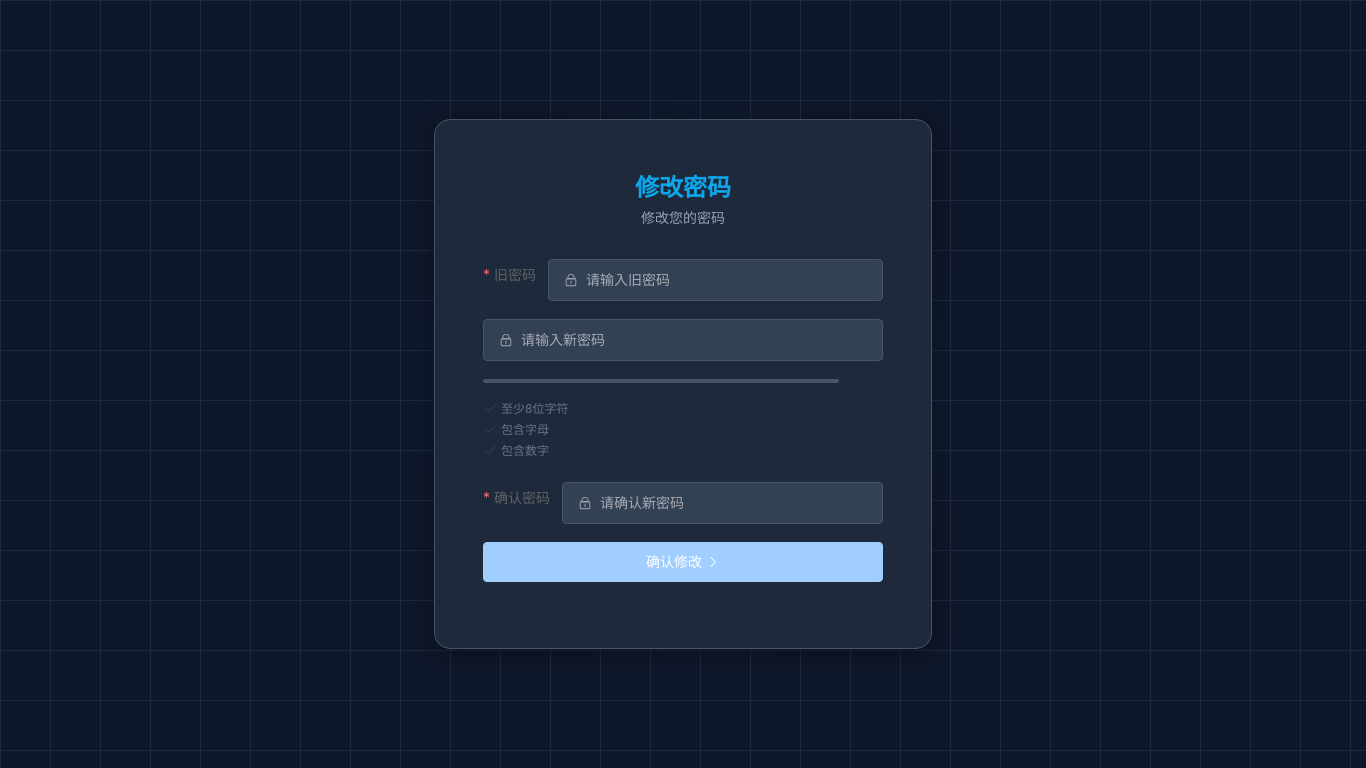
Test: ChangePassword.vue › 密码强度指示器 › 输入强密码时应显示"强"
Type "Abcdefg1" into the password field with placeholder "请输入新密码".
click(694, 340); type("Abcdefg1")  # box [521,321,867,359]
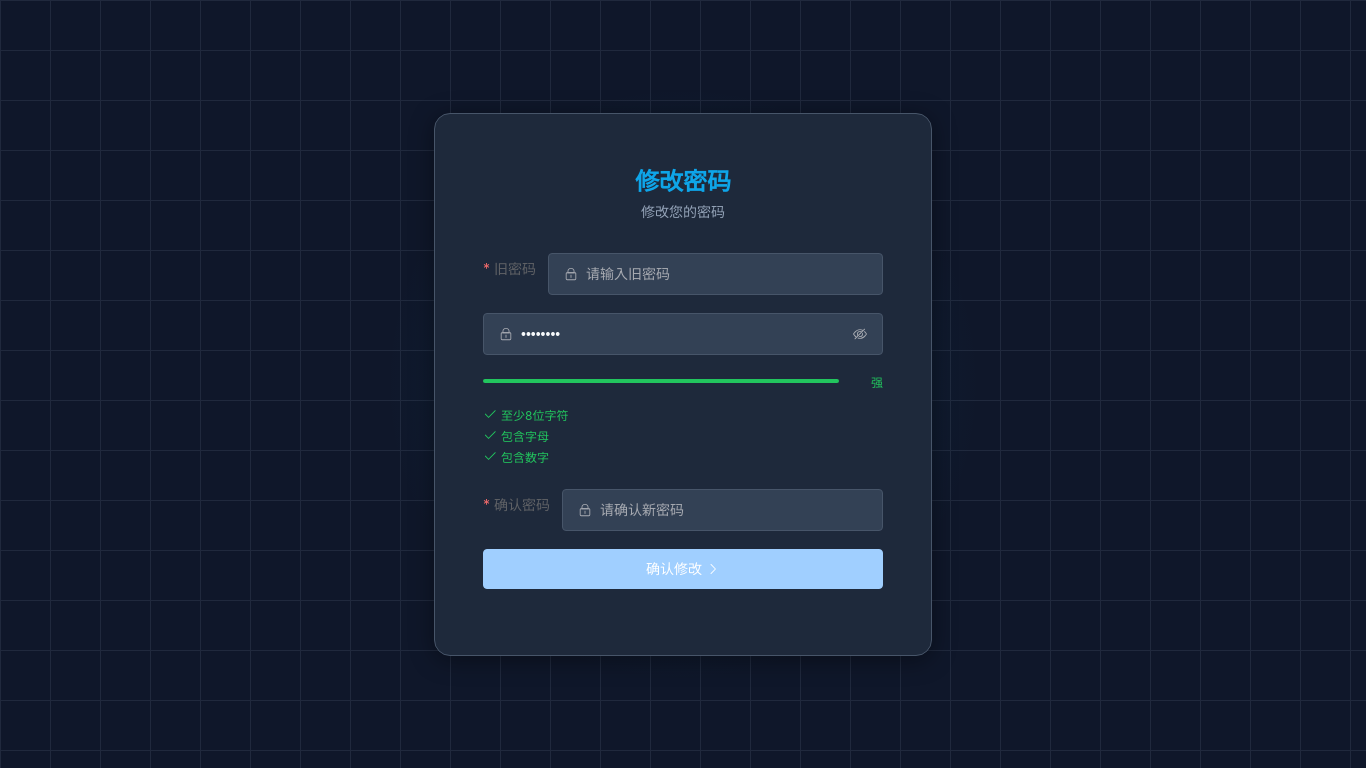
Now the text "强" is shown, box [871,374,883,390]
